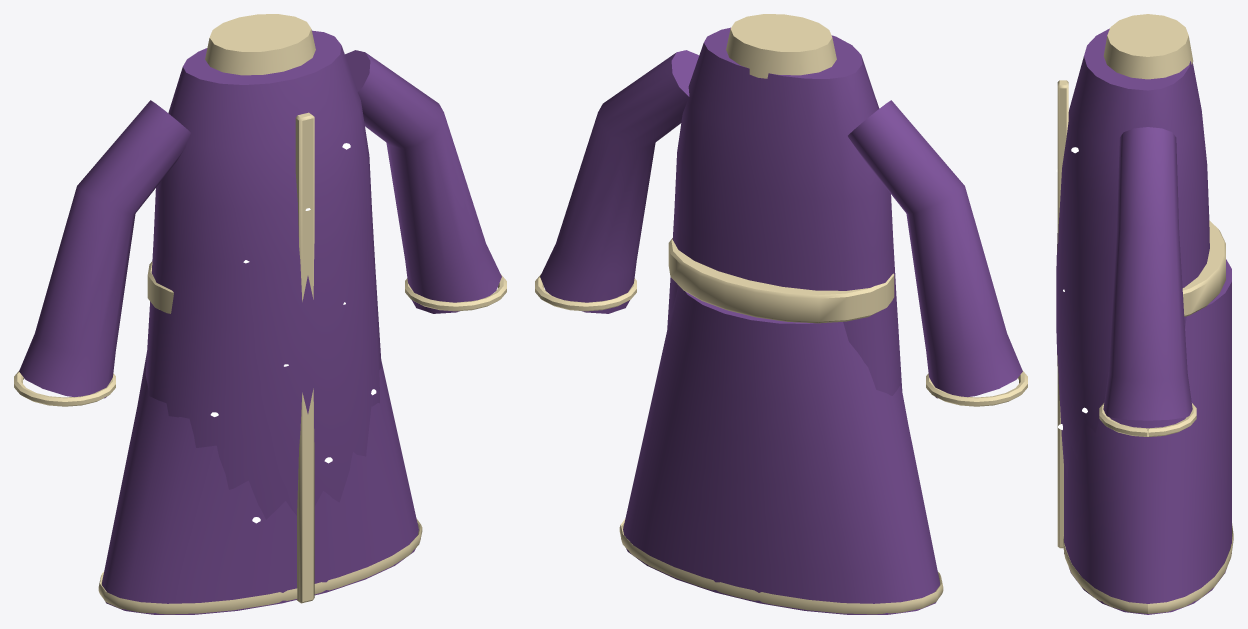
File: sage_robe.glb
The picture shows the model from 3 angles, left to right: view 1: azimuth 30°, elevation 25°; view 2: azimuth 150°, elevation 25°; view 3: azimuth 270°, elevation 25°; orthographic projection. The views are drawn at different scales.
Parts seen in each view (by area): view 1: sage_robe; view 2: sage_robe; view 3: sage_robe.
Part boxes in pixels (x1,y1,x2,y2): sage_robe: [14, 14, 506, 614]; sage_robe: [535, 14, 1027, 614]; sage_robe: [1056, 14, 1233, 614].
Size of the model in its own units: 0.9343 by 0.9948 by 0.3135.
